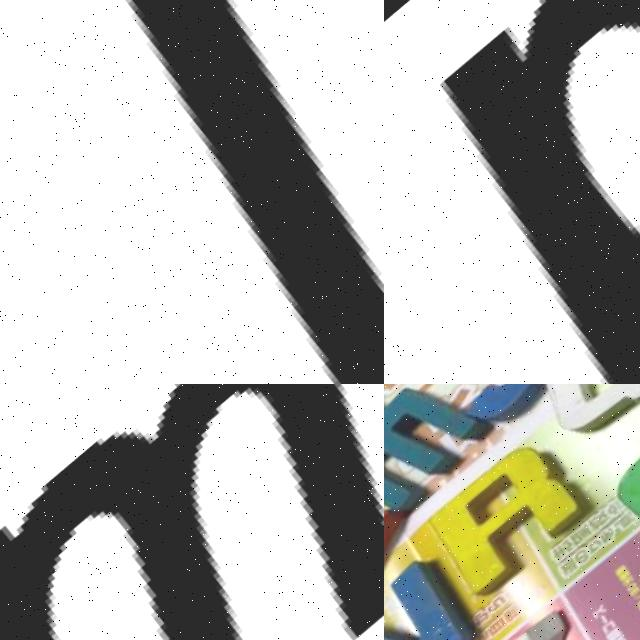C: (599, 392, 640, 578)
J: (420, 384, 578, 444)
L: (14, 0, 384, 384)
M: (0, 384, 384, 640), (384, 384, 496, 544)
Q: (515, 384, 640, 463)
R: (417, 426, 600, 611)
V: (384, 546, 492, 640)
Z: (419, 603, 621, 640)
